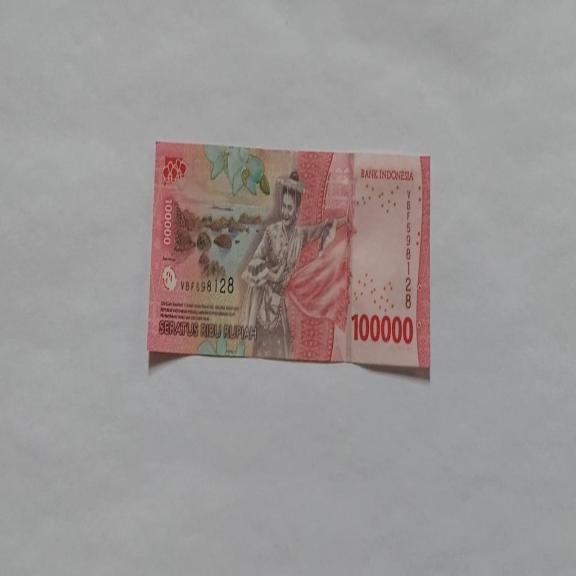Kertas: (147, 141, 431, 374), (351, 310, 414, 346)
